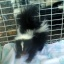skunk: (14, 10, 48, 60)
